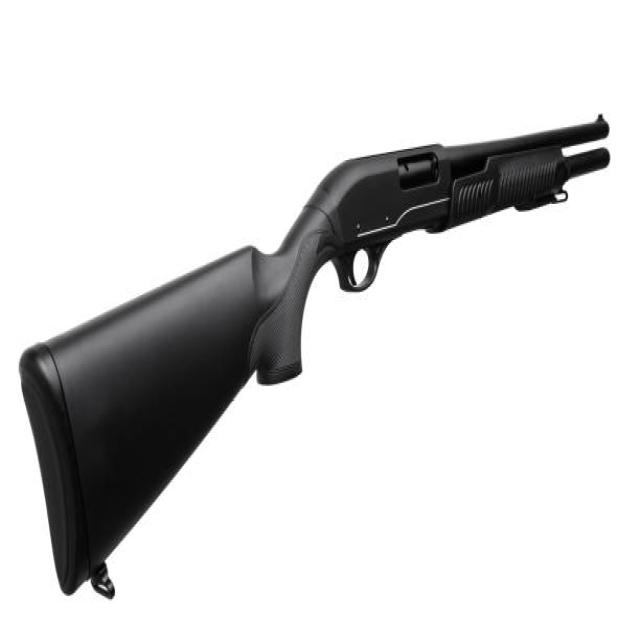rifle: (18, 97, 618, 608)
